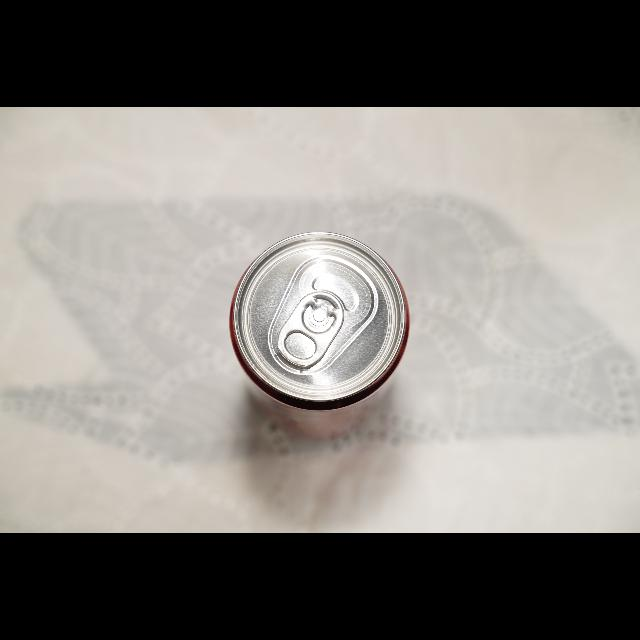coca_cola: (228, 230, 410, 422)
